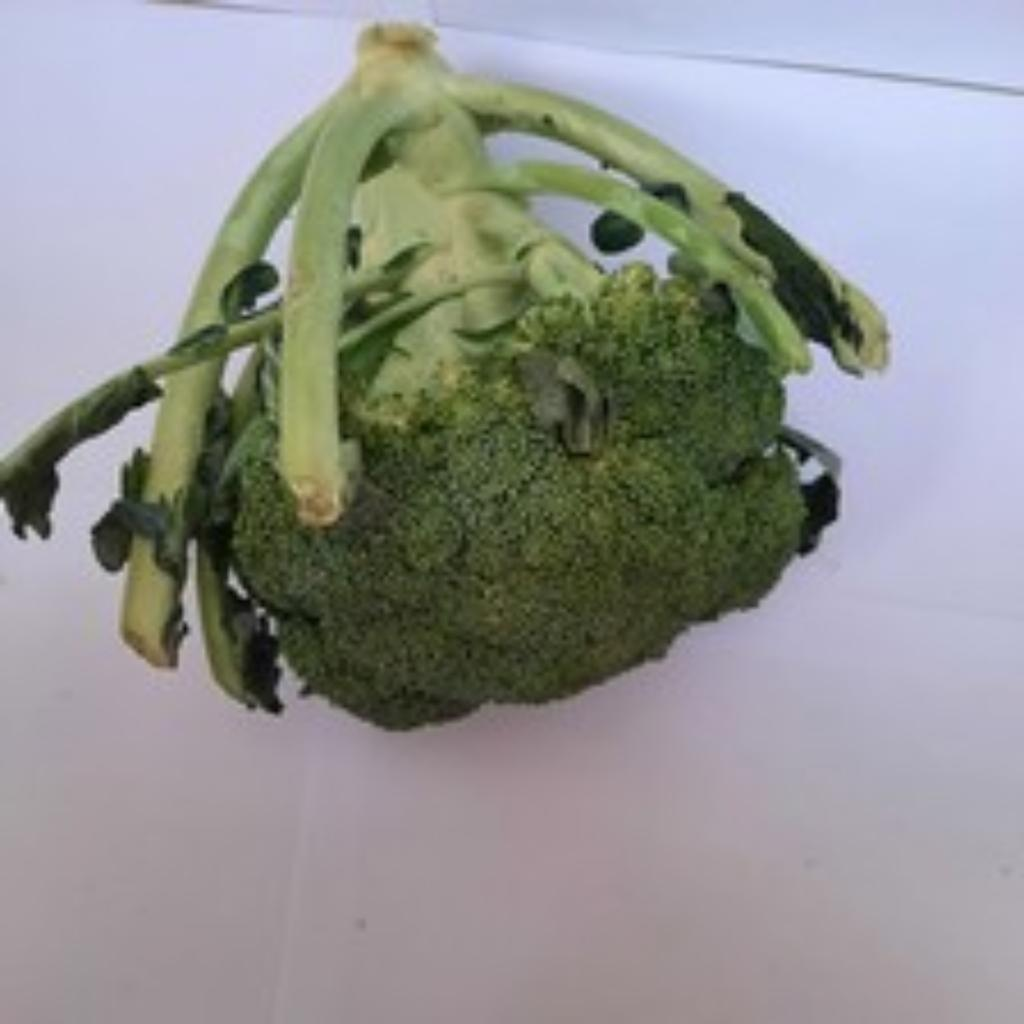Broccoli: (232, 266, 806, 727), (234, 266, 804, 727)
